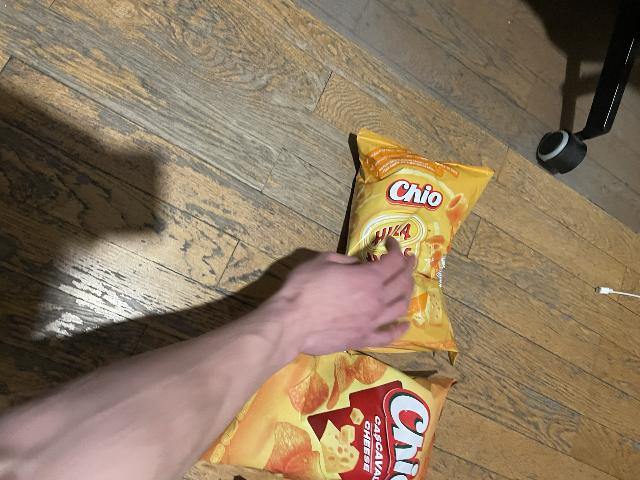Chio Cascaval 125g: (189, 351, 457, 480)
Chio Hula Hoops Cheese 70g: (344, 129, 496, 355)
